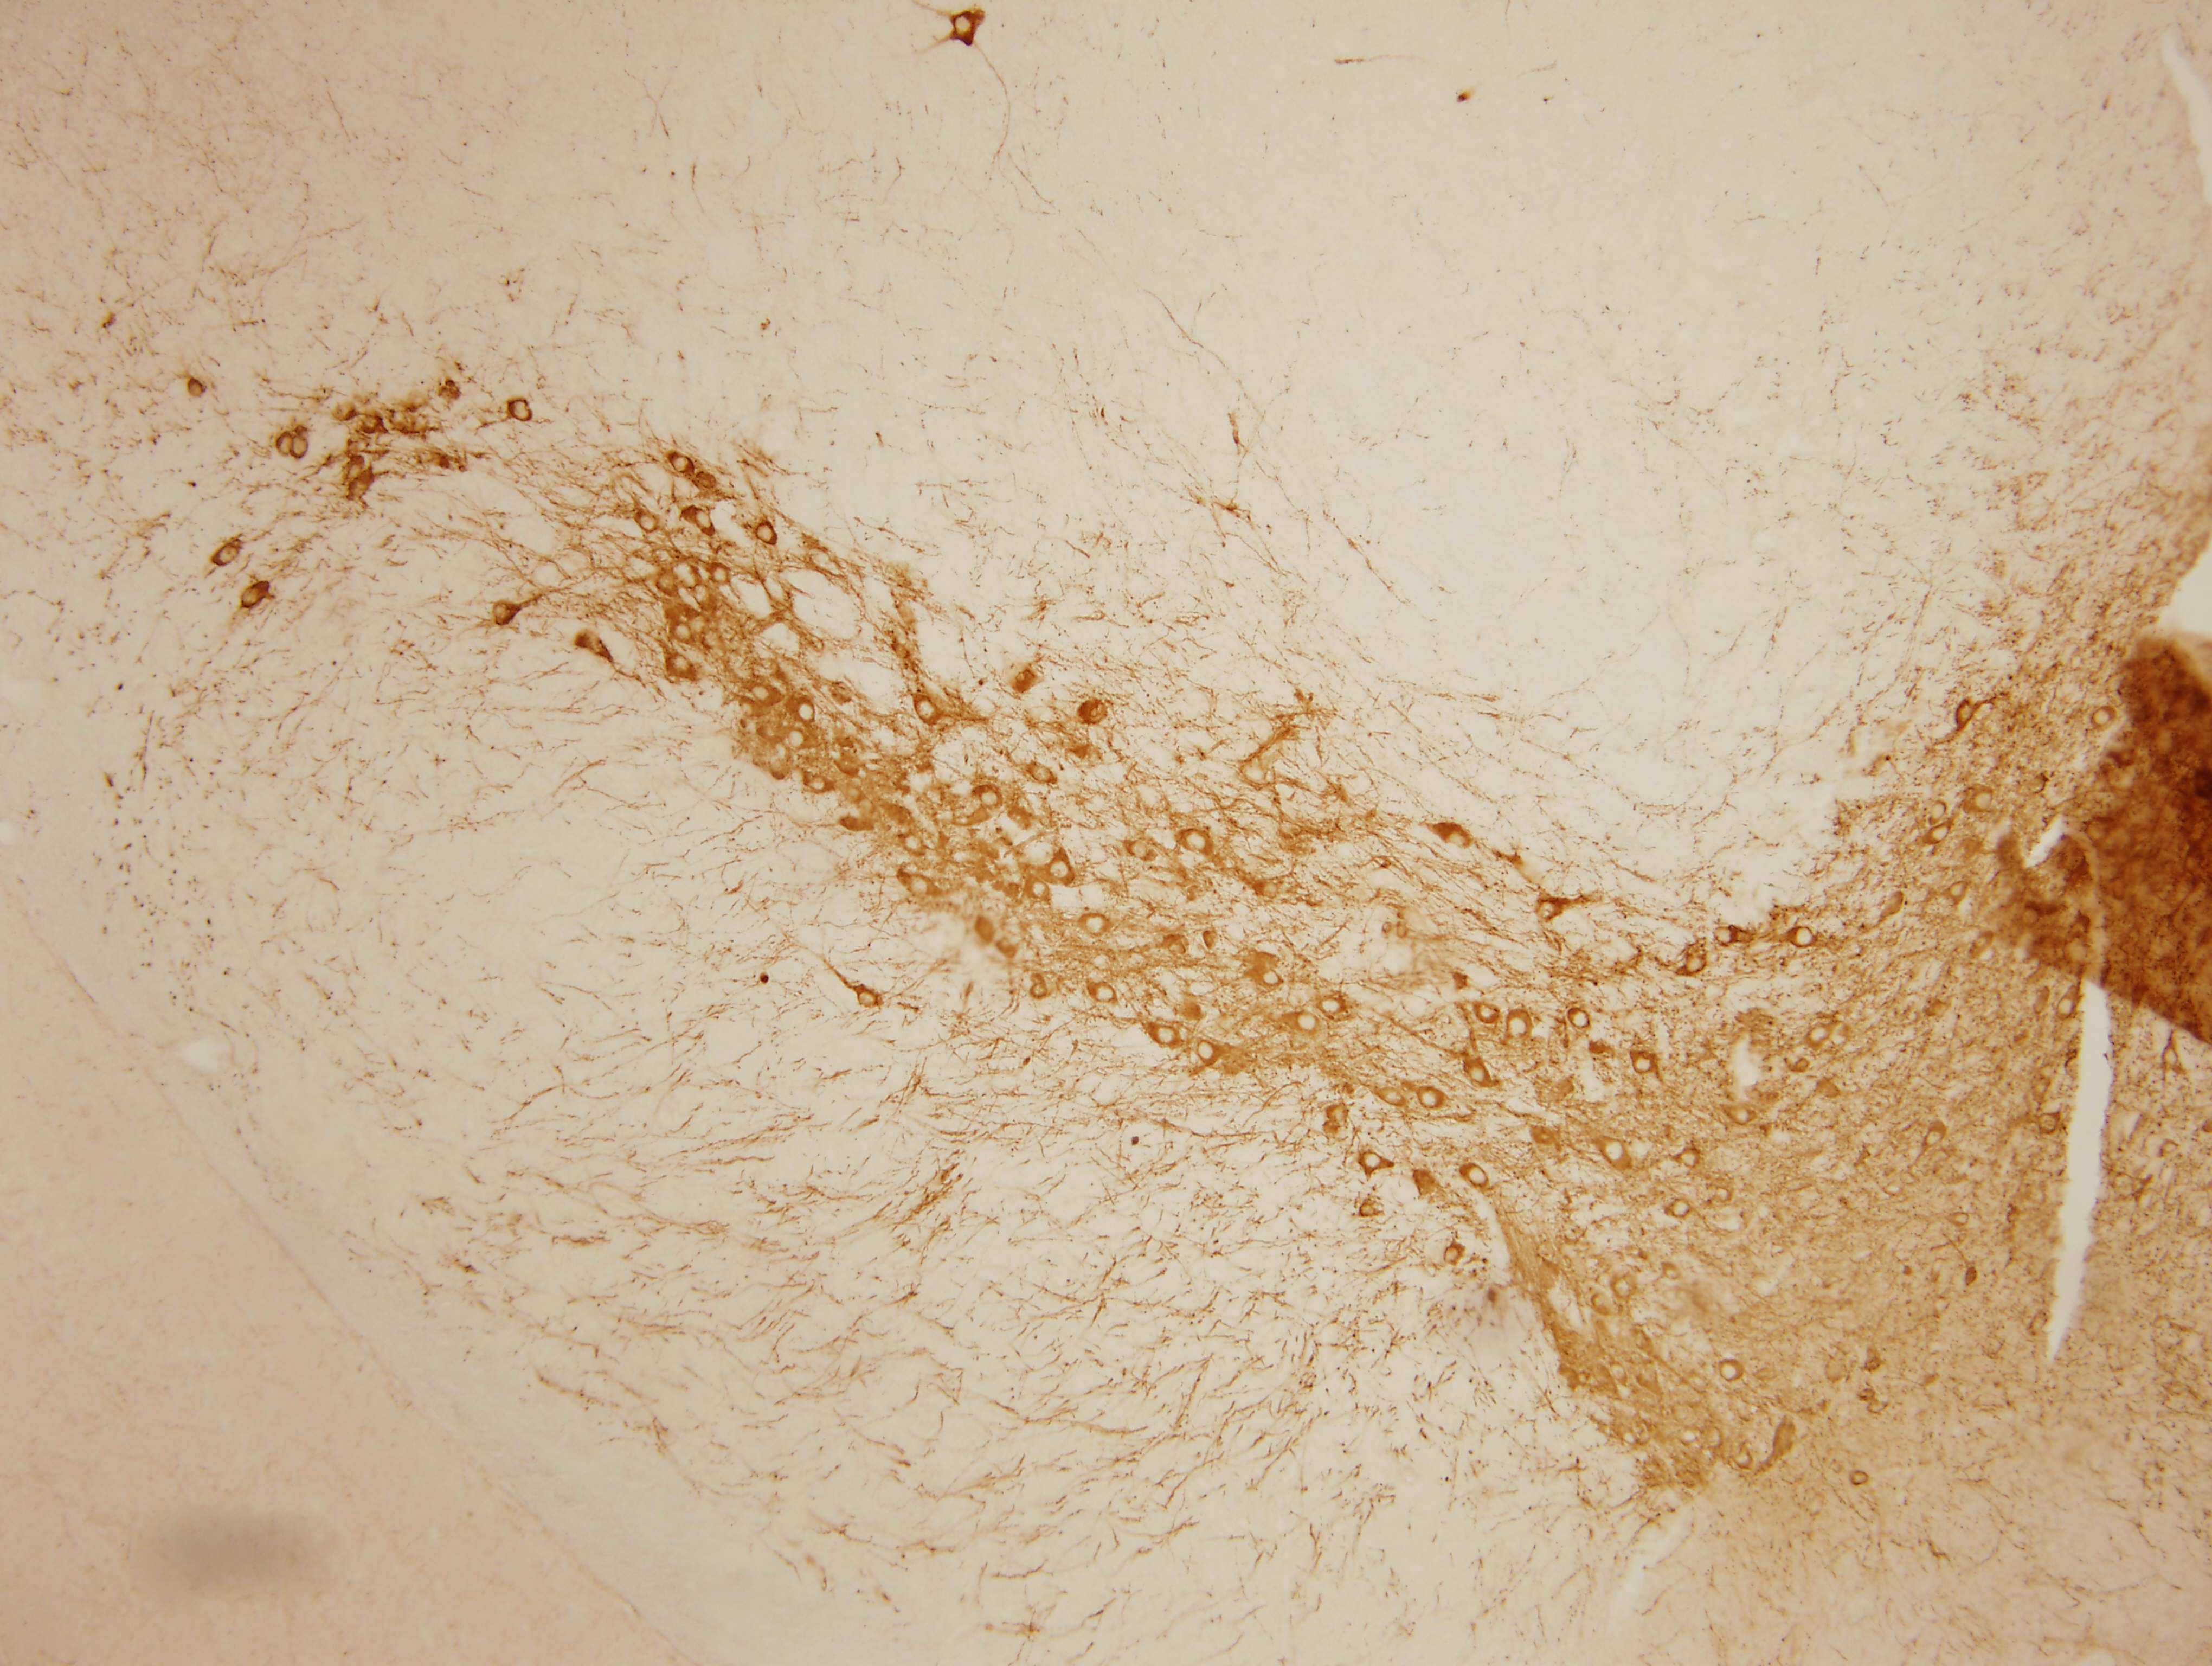neuron: (946, 12, 979, 45), (1149, 1020, 1182, 1054), (1374, 1080, 1408, 1113), (670, 560, 703, 591), (911, 695, 943, 728), (1415, 1080, 1446, 1113), (1950, 698, 1981, 731), (664, 651, 696, 683), (850, 985, 881, 1017), (1082, 698, 1114, 730), (636, 509, 663, 535), (670, 452, 696, 478), (671, 620, 698, 646), (692, 509, 719, 535), (708, 562, 734, 588), (792, 700, 818, 726), (804, 770, 831, 796), (901, 830, 927, 856), (906, 875, 932, 901), (977, 786, 1004, 812), (1030, 761, 1056, 788), (1046, 858, 1072, 884), (1091, 980, 1117, 1006), (1126, 836, 1152, 863), (1184, 828, 1210, 854), (1193, 1039, 1219, 1066), (1240, 761, 1266, 788), (1259, 966, 1285, 992), (1296, 1008, 1322, 1034), (1320, 992, 1346, 1019), (1359, 1148, 1385, 1174), (1464, 1061, 1490, 1087), (1465, 1162, 1492, 1188), (1476, 1001, 1502, 1027), (1504, 1013, 1530, 1039), (1534, 898, 1560, 924), (1567, 1006, 1593, 1032), (1602, 1138, 1628, 1164), (1609, 1276, 1635, 1302), (1630, 1050, 1656, 1076), (1668, 1195, 1694, 1222), (1682, 954, 1708, 980), (1712, 924, 1738, 950), (1731, 1447, 1757, 1473), (1791, 924, 1817, 950), (1805, 1024, 1831, 1050), (182, 376, 208, 402), (1920, 1123, 1946, 1150), (1925, 800, 1951, 826), (1927, 823, 1953, 849), (1944, 877, 1971, 903), (1967, 935, 1993, 961), (1969, 788, 1995, 814), (2034, 1111, 2060, 1138), (2053, 996, 2079, 1022), (2090, 707, 2116, 733), (213, 542, 240, 569), (2156, 1136, 2182, 1162), (2158, 1045, 2184, 1071), (240, 585, 266, 611), (271, 431, 297, 457), (289, 434, 315, 460), (491, 600, 518, 626), (507, 397, 533, 424), (748, 683, 773, 709), (754, 521, 780, 546), (783, 728, 810, 753), (1082, 914, 1109, 938), (1603, 1360, 1630, 1384), (1679, 1146, 1703, 1172), (1708, 1185, 1735, 1209), (1715, 1360, 1742, 1384), (1729, 1106, 1756, 1130), (1861, 1355, 1887, 1379), (2028, 1312, 2053, 1339), (1030, 880, 1051, 900), (1030, 982, 1051, 1001), (1617, 1430, 1638, 1449), (1953, 1209, 1972, 1230), (1443, 1246, 1462, 1265), (1677, 1432, 1696, 1451), (1794, 1057, 1813, 1076), (1852, 1470, 1871, 1489), (1859, 1384, 1878, 1403), (1868, 1398, 1887, 1418), (1014, 672, 1028, 684)
